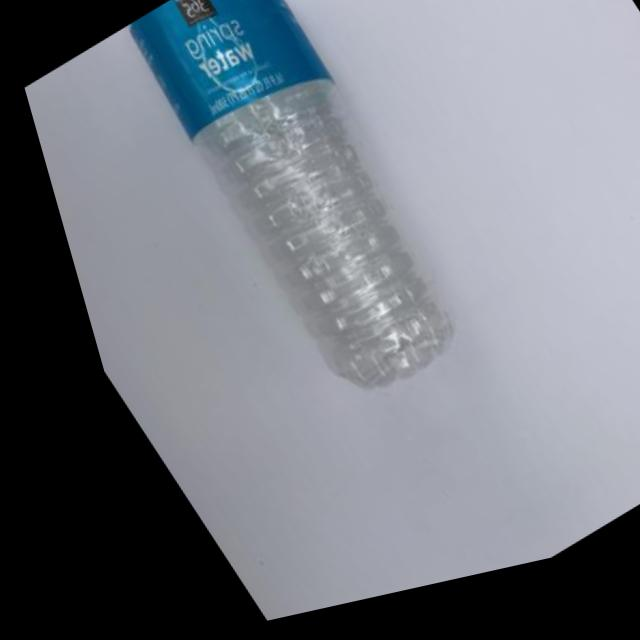plastic: (41, 0, 560, 494)
